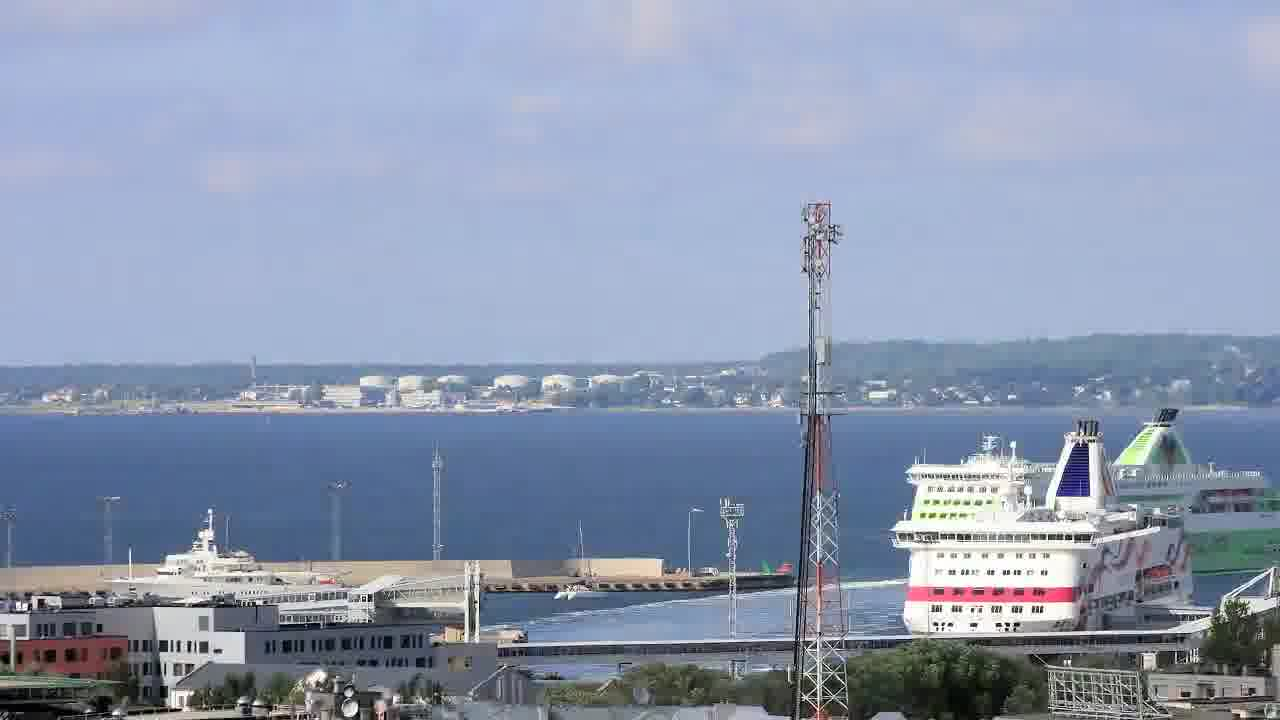type-3: (868, 415, 1225, 638), (856, 443, 1277, 590), (84, 511, 353, 609)
